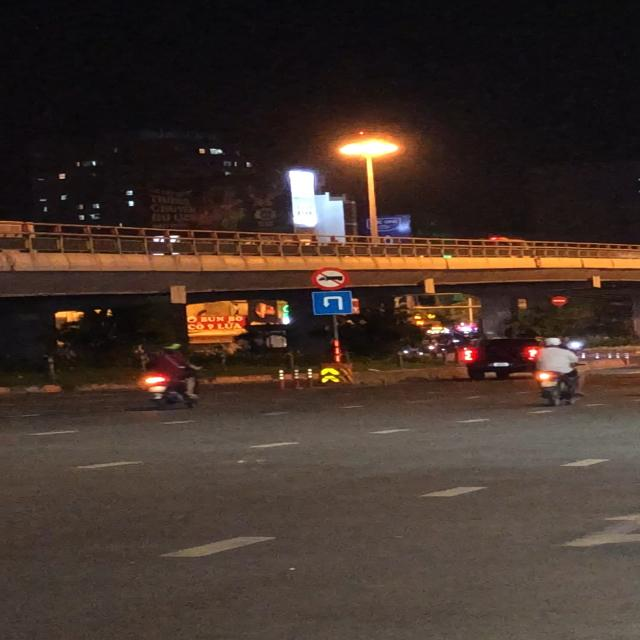Bien bao cam xe so-mi ro-mooc: (311, 266, 349, 291)
